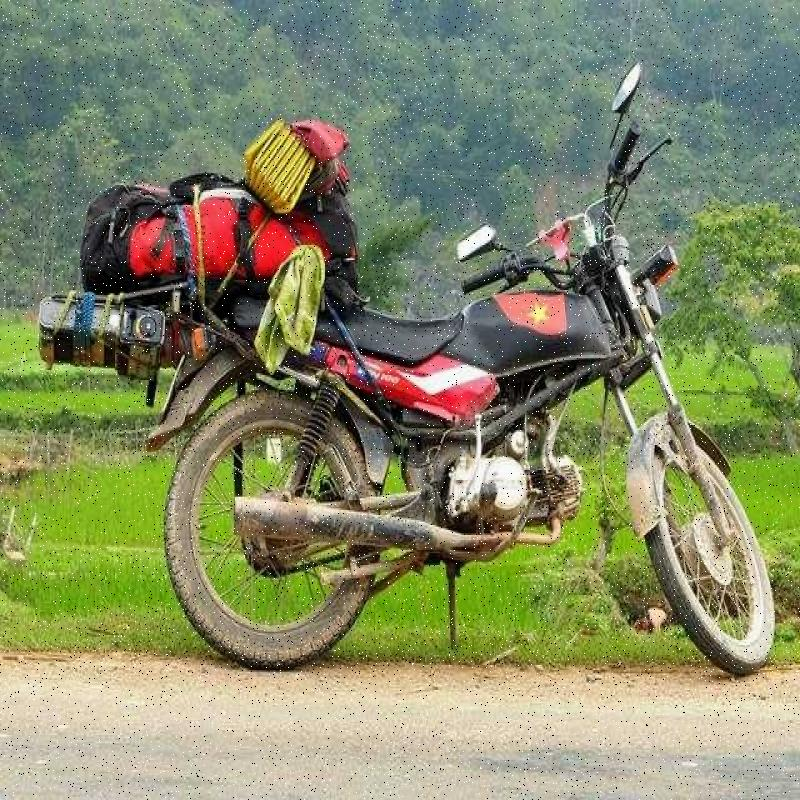bike: (127, 23, 787, 652)
